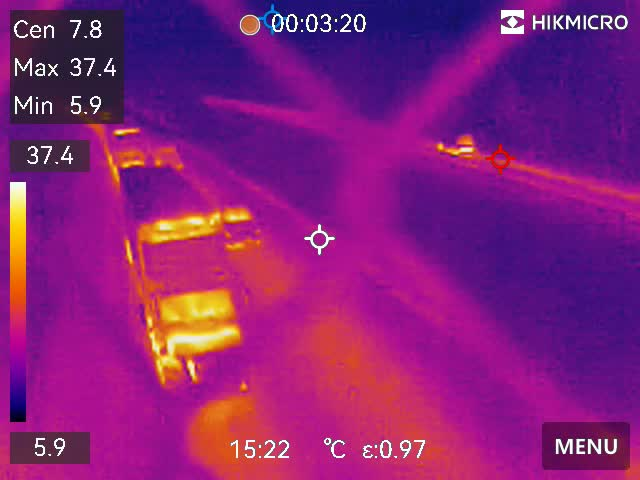heavyTruck: (109, 163, 253, 389)
